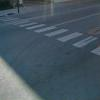Crosswalk: (12, 13, 100, 55)
